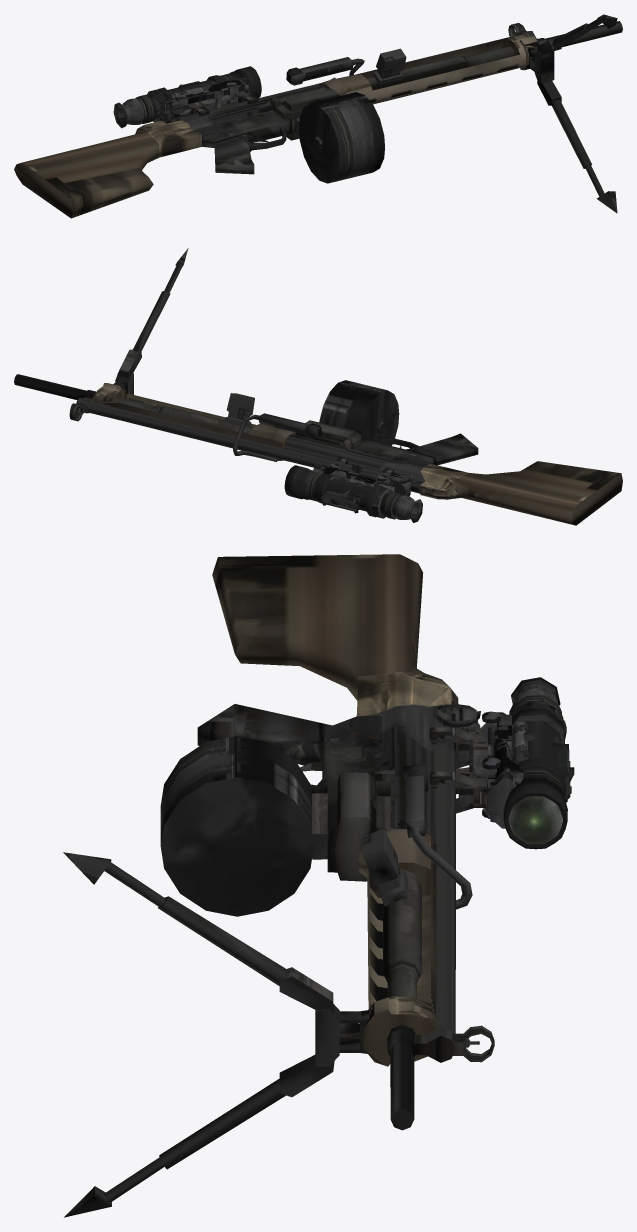
The model's file is t5_weapon_hk21_world.glb.
3 renders of one model, top to bottom at view 1: azimuth 30°, elevation 25°; view 2: azimuth 150°, elevation 25°; view 3: azimuth 270°, elevation 25°, orthographic. The views are drawn at different scales.
Visible parts, largest first — view 1: t5_weapon_hk21_world; view 2: t5_weapon_hk21_world; view 3: t5_weapon_hk21_world.
Part boxes in pixels (bbox=[...]): t5_weapon_hk21_world: bbox=[14, 14, 622, 218]; t5_weapon_hk21_world: bbox=[14, 248, 622, 525]; t5_weapon_hk21_world: bbox=[63, 554, 574, 1217].
Size of the model in its own units: 1.08 by 0.3363 by 0.4265.
Materials: 11 (11 with a texture image).
